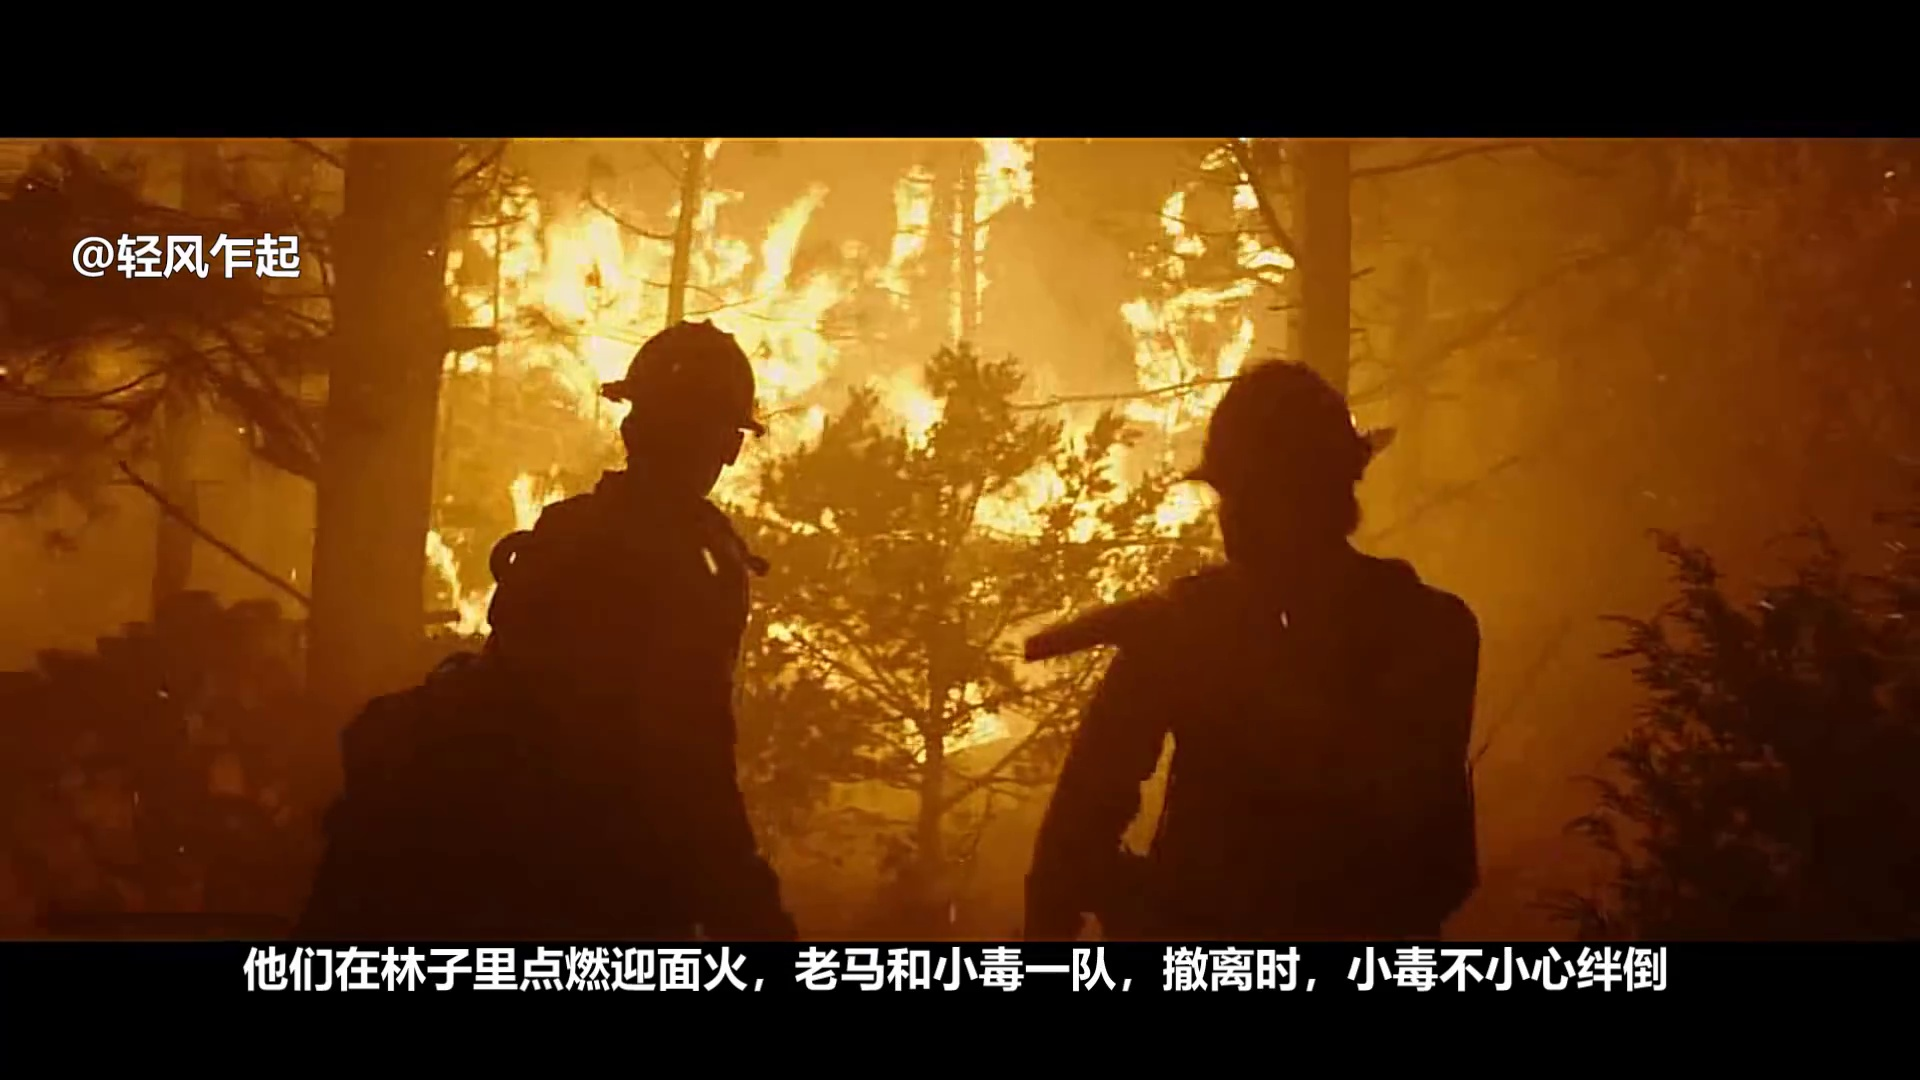fire: (476, 195, 841, 425), (1124, 164, 1274, 406), (996, 458, 1196, 539), (897, 142, 1027, 255), (429, 538, 487, 637), (880, 365, 947, 429), (945, 678, 996, 745), (512, 469, 559, 520)
